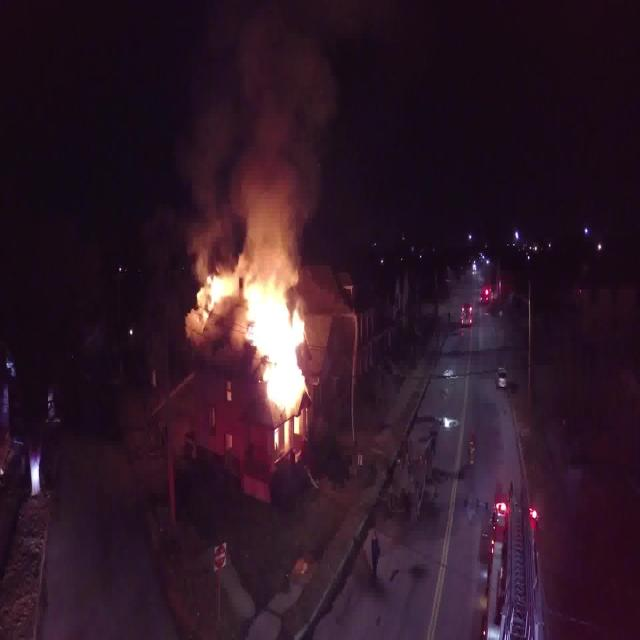Fire: (204, 257, 310, 421)
Smoke: (191, 0, 333, 262)
